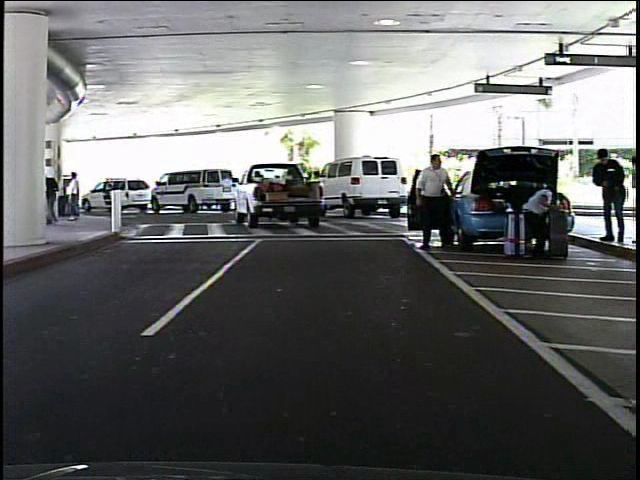person: (415, 151, 460, 251), (587, 143, 624, 248), (519, 174, 562, 257), (621, 152, 640, 245)
